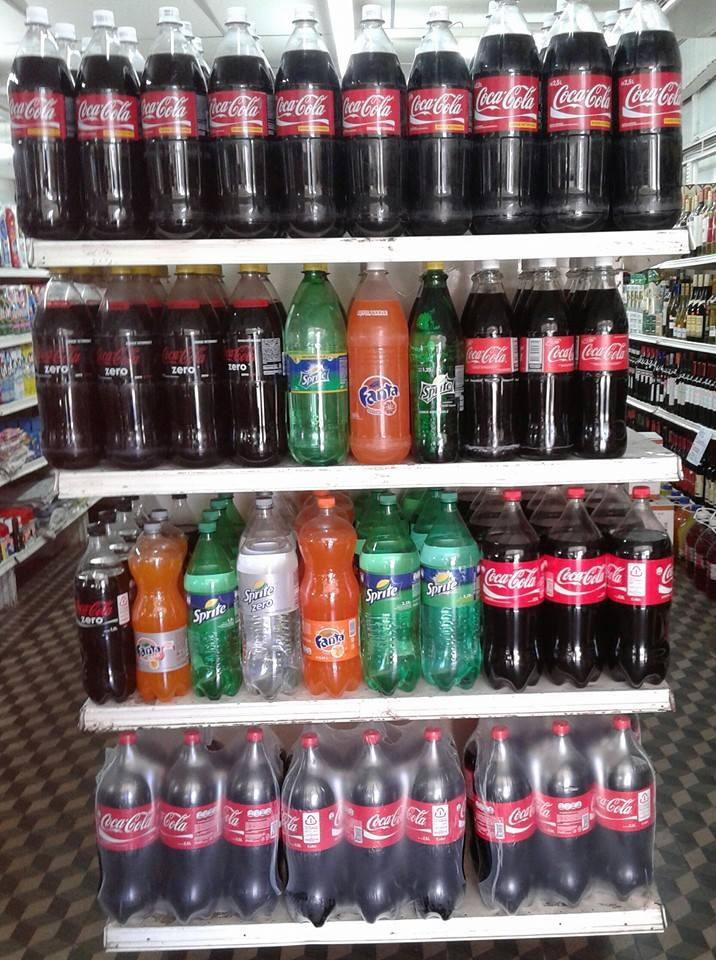cocacola: (475, 83, 536, 114), (552, 80, 611, 111), (482, 566, 540, 590), (412, 93, 467, 118), (78, 100, 133, 124), (342, 95, 394, 120), (275, 95, 328, 118), (555, 565, 605, 588), (101, 812, 155, 832), (581, 343, 626, 362)
fanta: (356, 382, 399, 408), (313, 629, 345, 650), (136, 642, 161, 658)
sprite: (192, 602, 226, 627), (364, 584, 399, 606), (297, 367, 331, 389), (425, 578, 459, 600), (242, 585, 276, 603), (422, 383, 454, 402)
